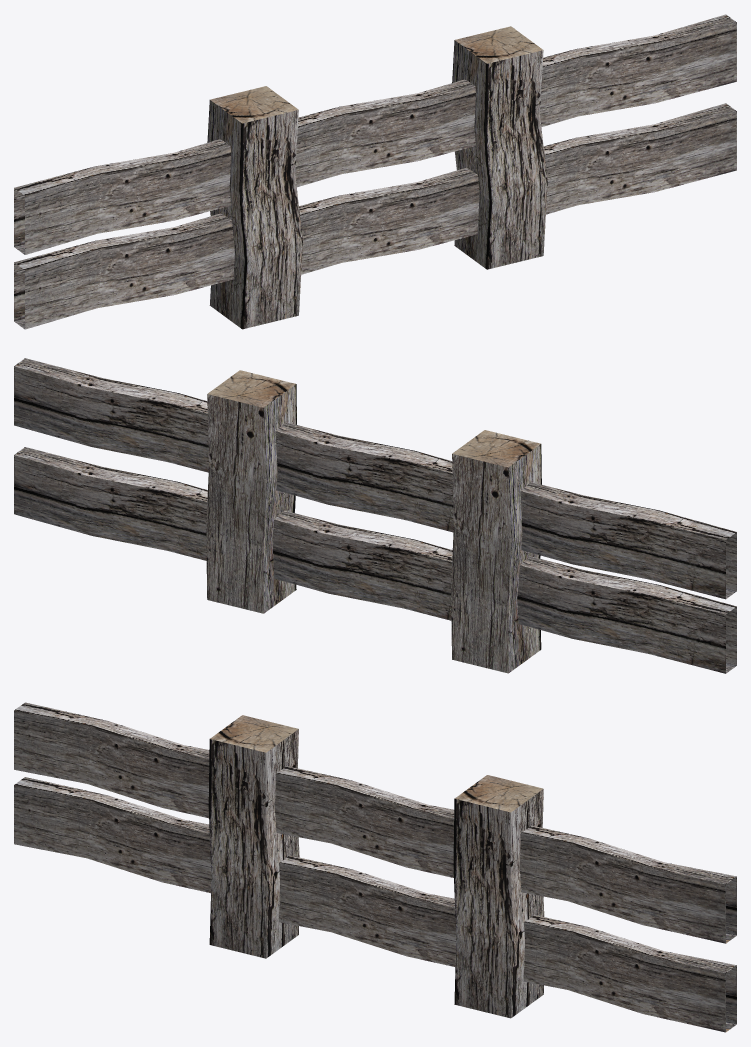
File: fence03e.fbx
The picture shows the model from 3 angles, top to bottom: view 1: azimuth 30°, elevation 25°; view 2: azimuth 150°, elevation 25°; view 3: azimuth 330°, elevation 25°; orthographic projection.
Visible parts, largest first — view 1: Cube.008, Cube.001, Cube.009, Cube.010, Cube.012, Cube.011, Cube.004, Cube.002; view 2: Cube.008, Cube.001, Cube.009, Cube.010, Cube.012, Cube.011, Cube.002, Cube.004; view 3: Cube.001, Cube.008, Cube.012, Cube.011, Cube.009, Cube.010, Cube.004, Cube.002.
Part boxes in pixels (box(x1,y1,x2,y2)): Cube.008: box(207, 86, 302, 329); Cube.001: box(452, 26, 547, 269); Cube.009: box(14, 213, 234, 329); Cube.010: box(14, 139, 230, 254); Cube.012: box(540, 14, 736, 127); Cube.011: box(543, 103, 736, 214); Cube.004: box(295, 79, 475, 187); Cube.002: box(299, 167, 479, 274); Cube.008: box(451, 430, 541, 673); Cube.001: box(206, 370, 296, 613); Cube.009: box(517, 556, 736, 673); Cube.010: box(520, 482, 736, 599); Cube.012: box(14, 358, 208, 472); Cube.011: box(14, 447, 207, 560); Cube.002: box(272, 510, 452, 620); Cube.004: box(275, 422, 453, 532); Cube.001: box(453, 775, 544, 1018); Cube.008: box(208, 715, 299, 958); Cube.012: box(519, 825, 736, 943); Cube.011: box(523, 915, 736, 1032); Cube.009: box(14, 777, 211, 893); Cube.010: box(14, 702, 209, 818); Cube.004: box(275, 766, 454, 877); Cube.002: box(278, 855, 456, 966).
Bounding box in the file's own units: 520 × 144 × 45.85.
Materials: 1 (1 with a texture image).
